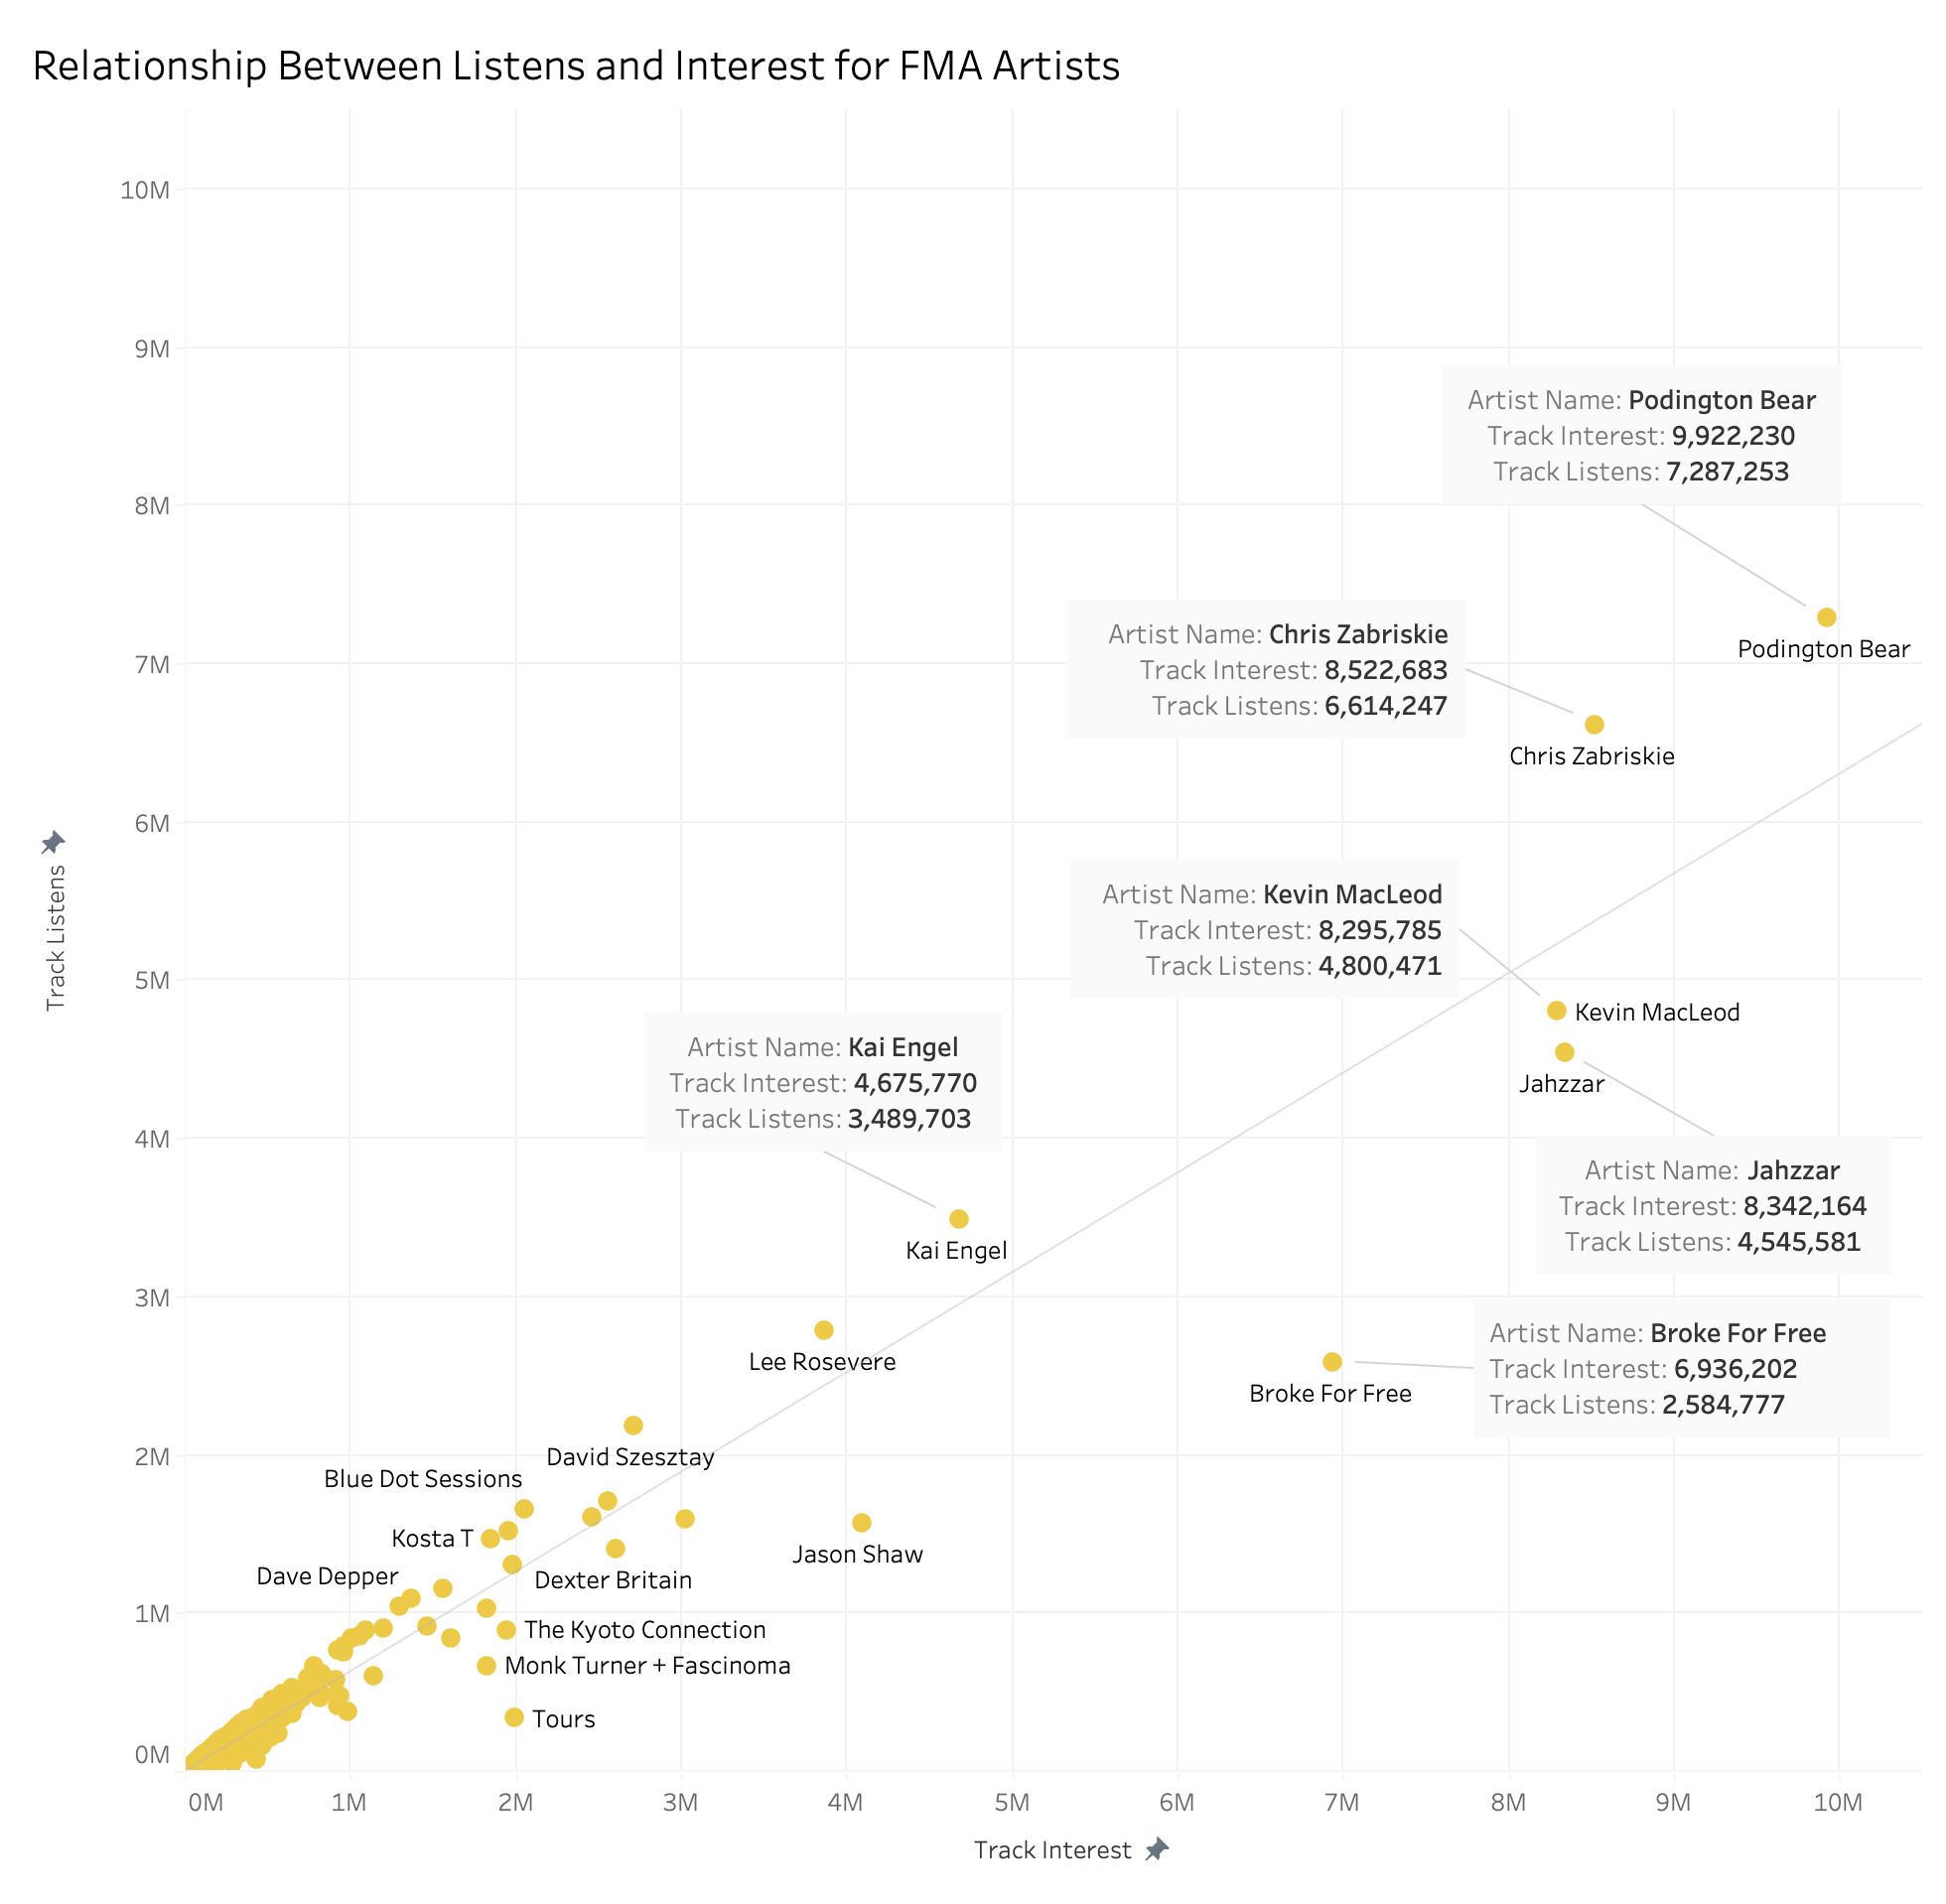

What the dashboard file says about the page in this screenshot:
{"tool":"tableau","page":{"name":"Dashboard 1 (2)","canvas":[1600,900],"ordinal":1},"visuals":[{"type":"worksheet","title":"Sheet 1","mark":"Automatic","box":[8,8,1584,884]}]}

Visuals, with their boxes on the page's 1600x900 design canvas (x1, y1, x2, y2). These are canvas units, not pixel positions in the 1946x1904 screenshot, which may show the page scaled, cropped or inside an application window:
"Sheet 1" worksheet: x1=8 y1=8 x2=1592 y2=892
